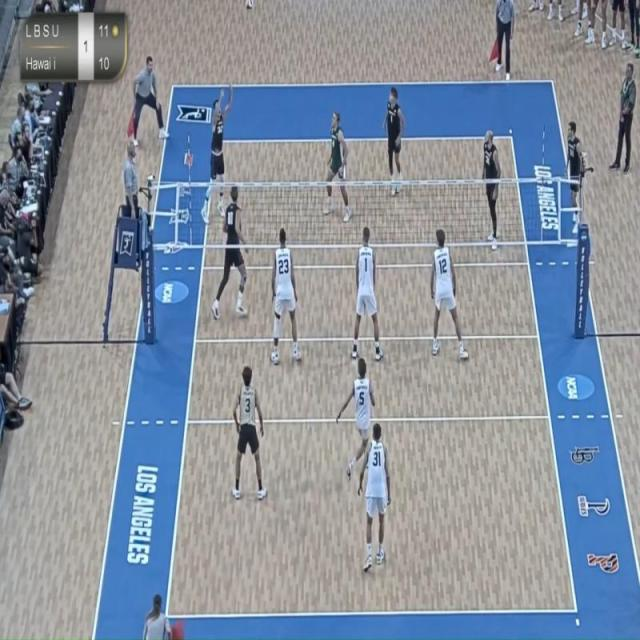volleyball: (242, 0, 257, 26)
